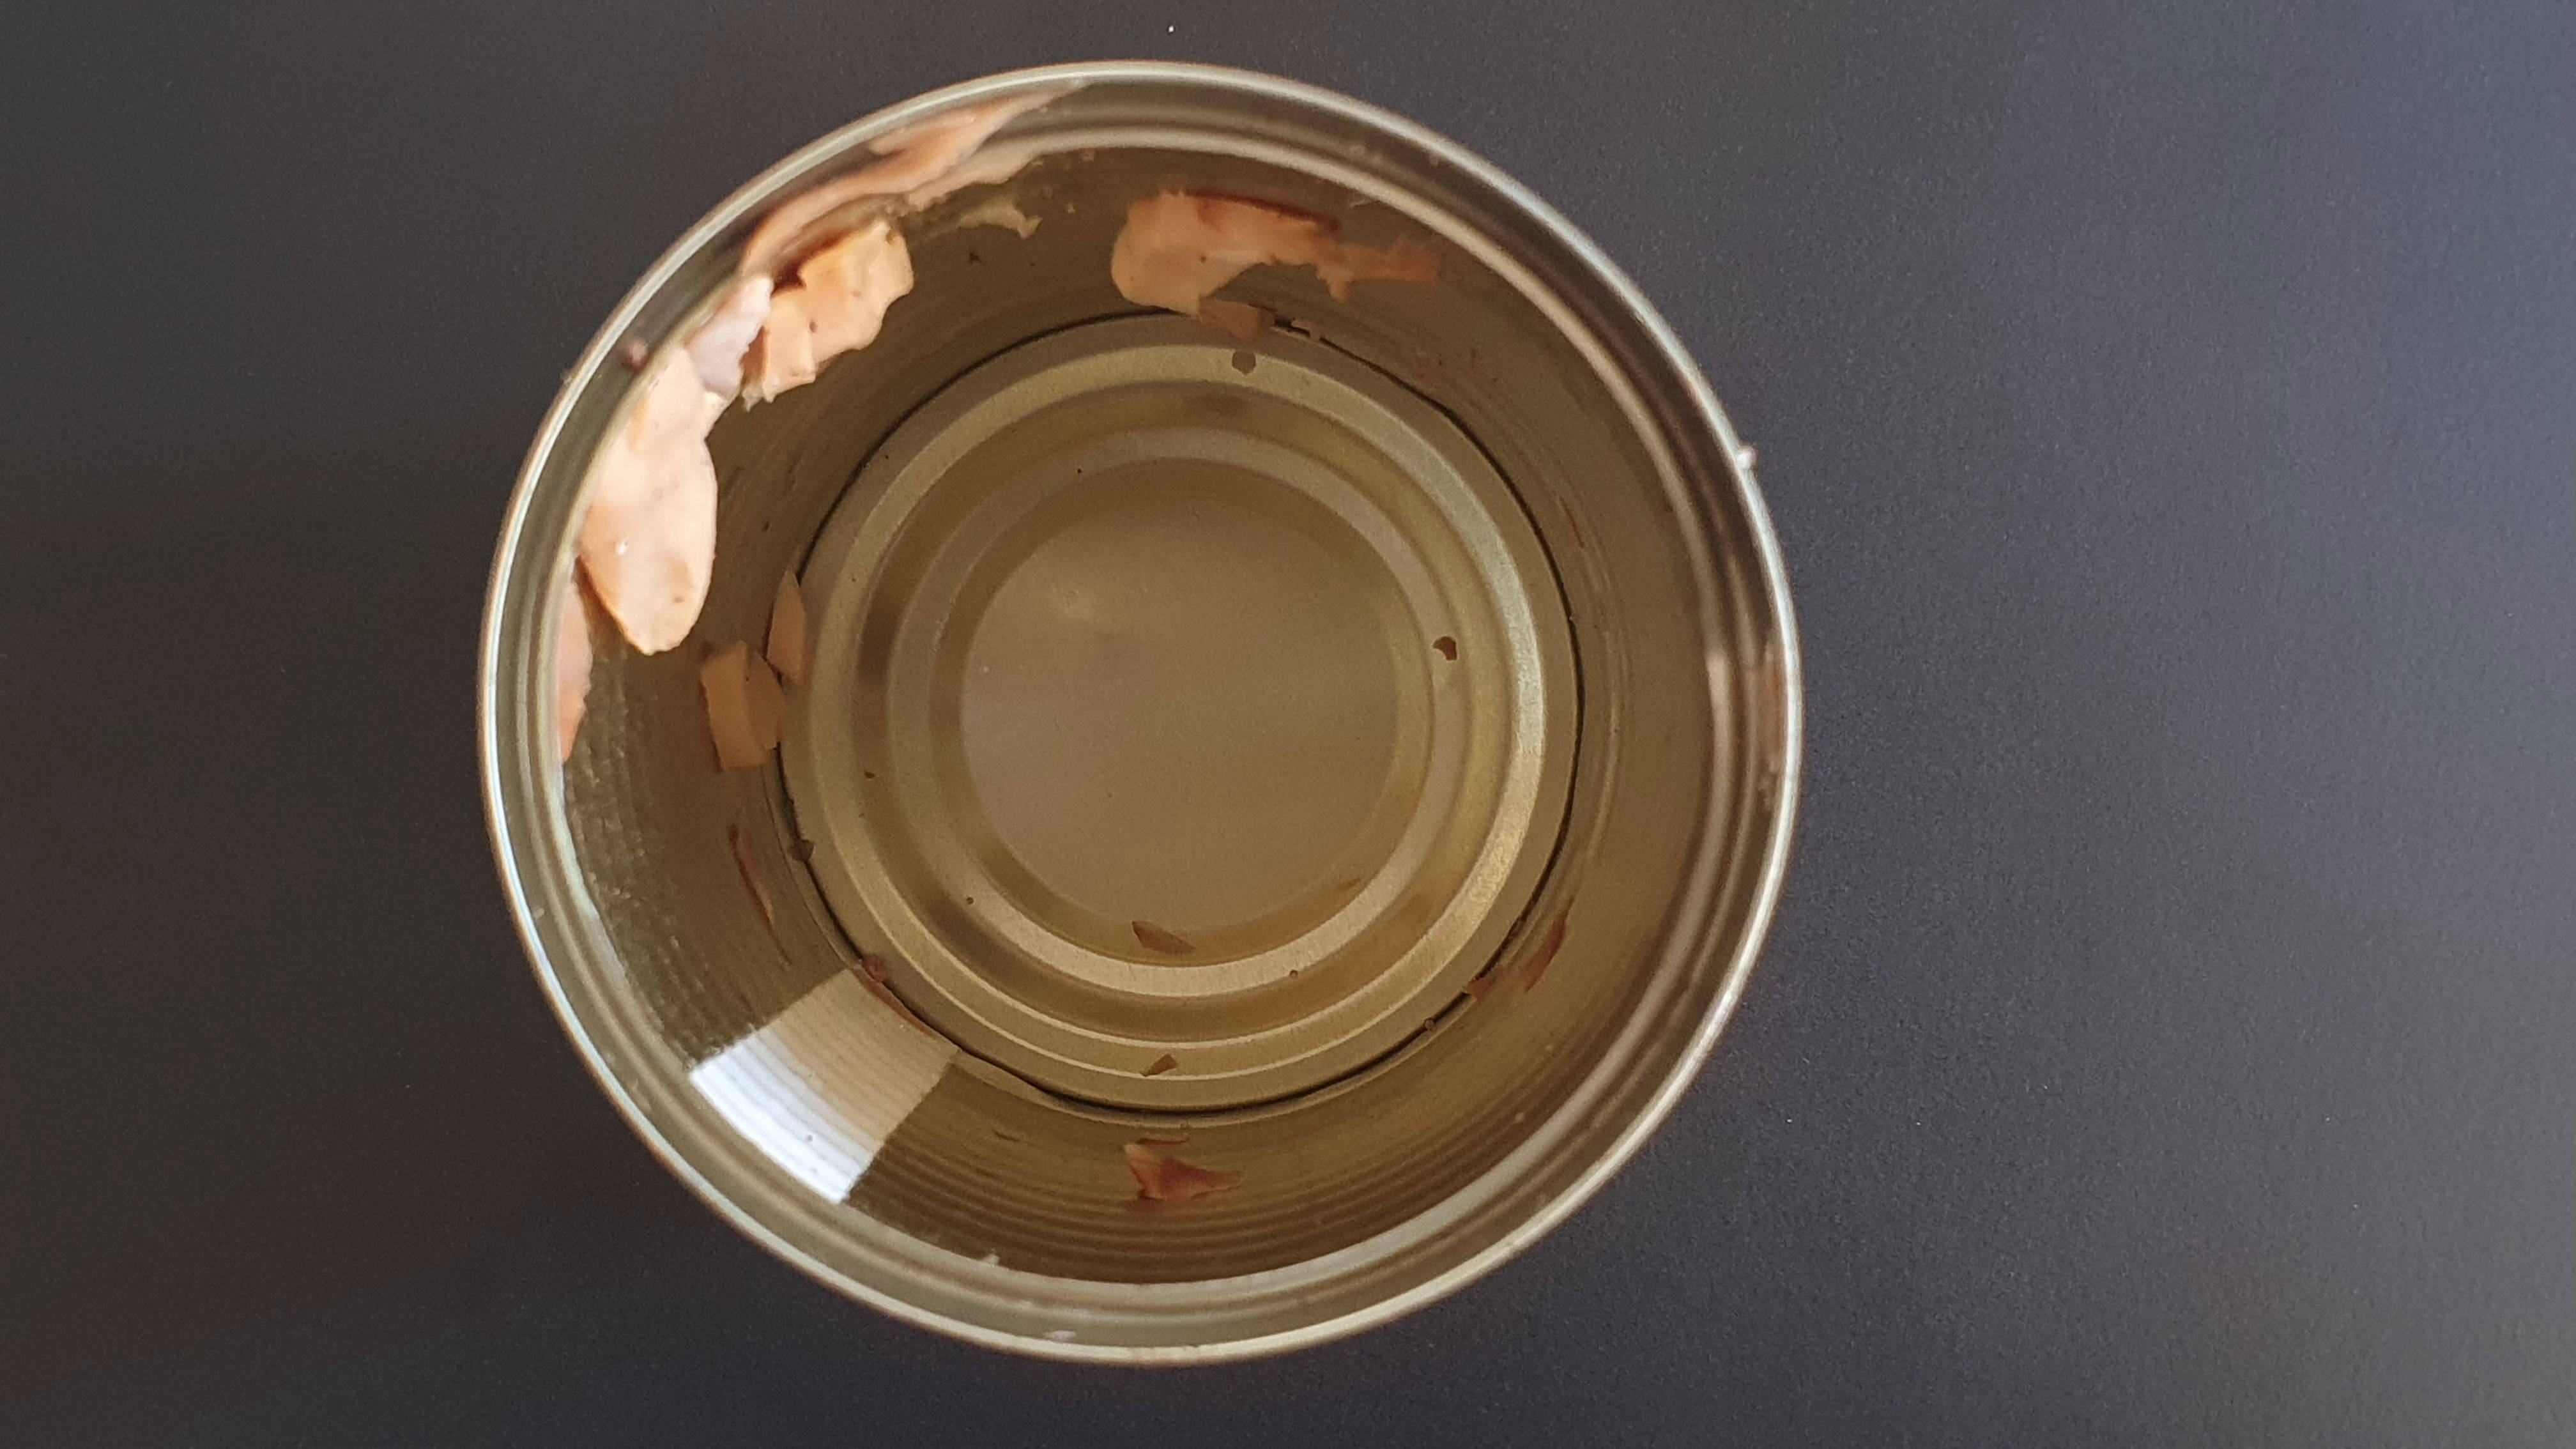metal: (430, 16, 1826, 1401)
